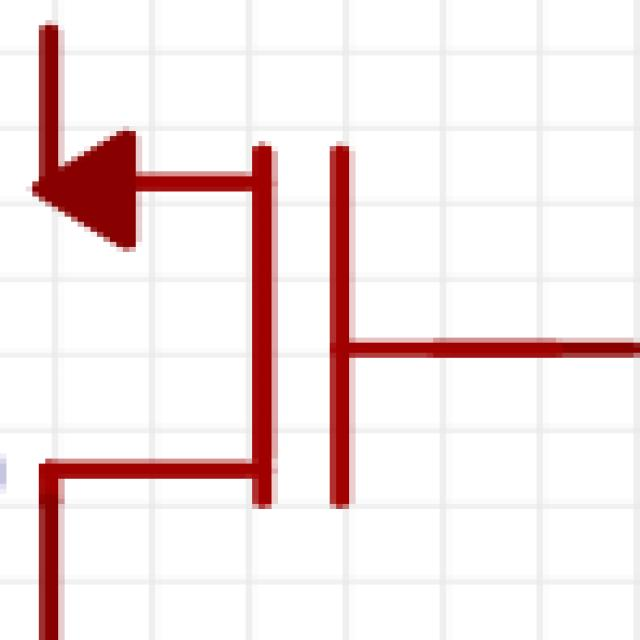nmos: (8, 10, 640, 622)
